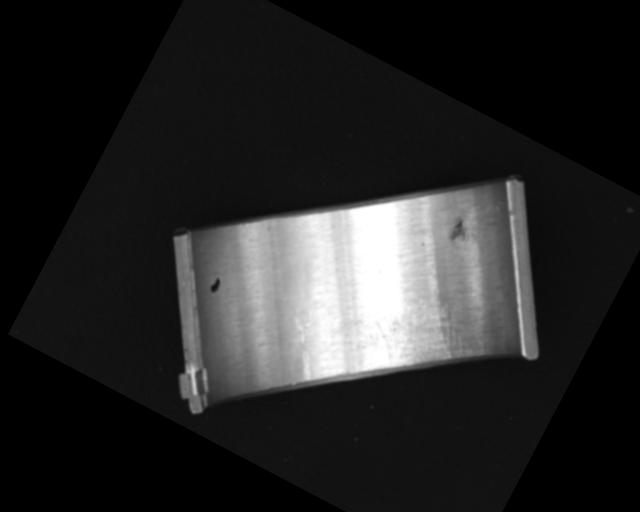blot: (207, 275, 224, 295)
bruise: (444, 216, 472, 249)
nick: (271, 303, 341, 382)
scratch: (340, 269, 496, 410)
